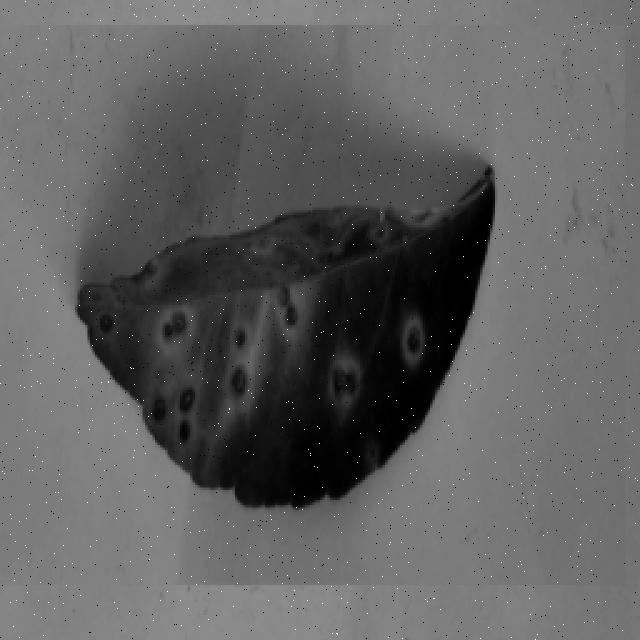canker: (65, 152, 497, 524)
